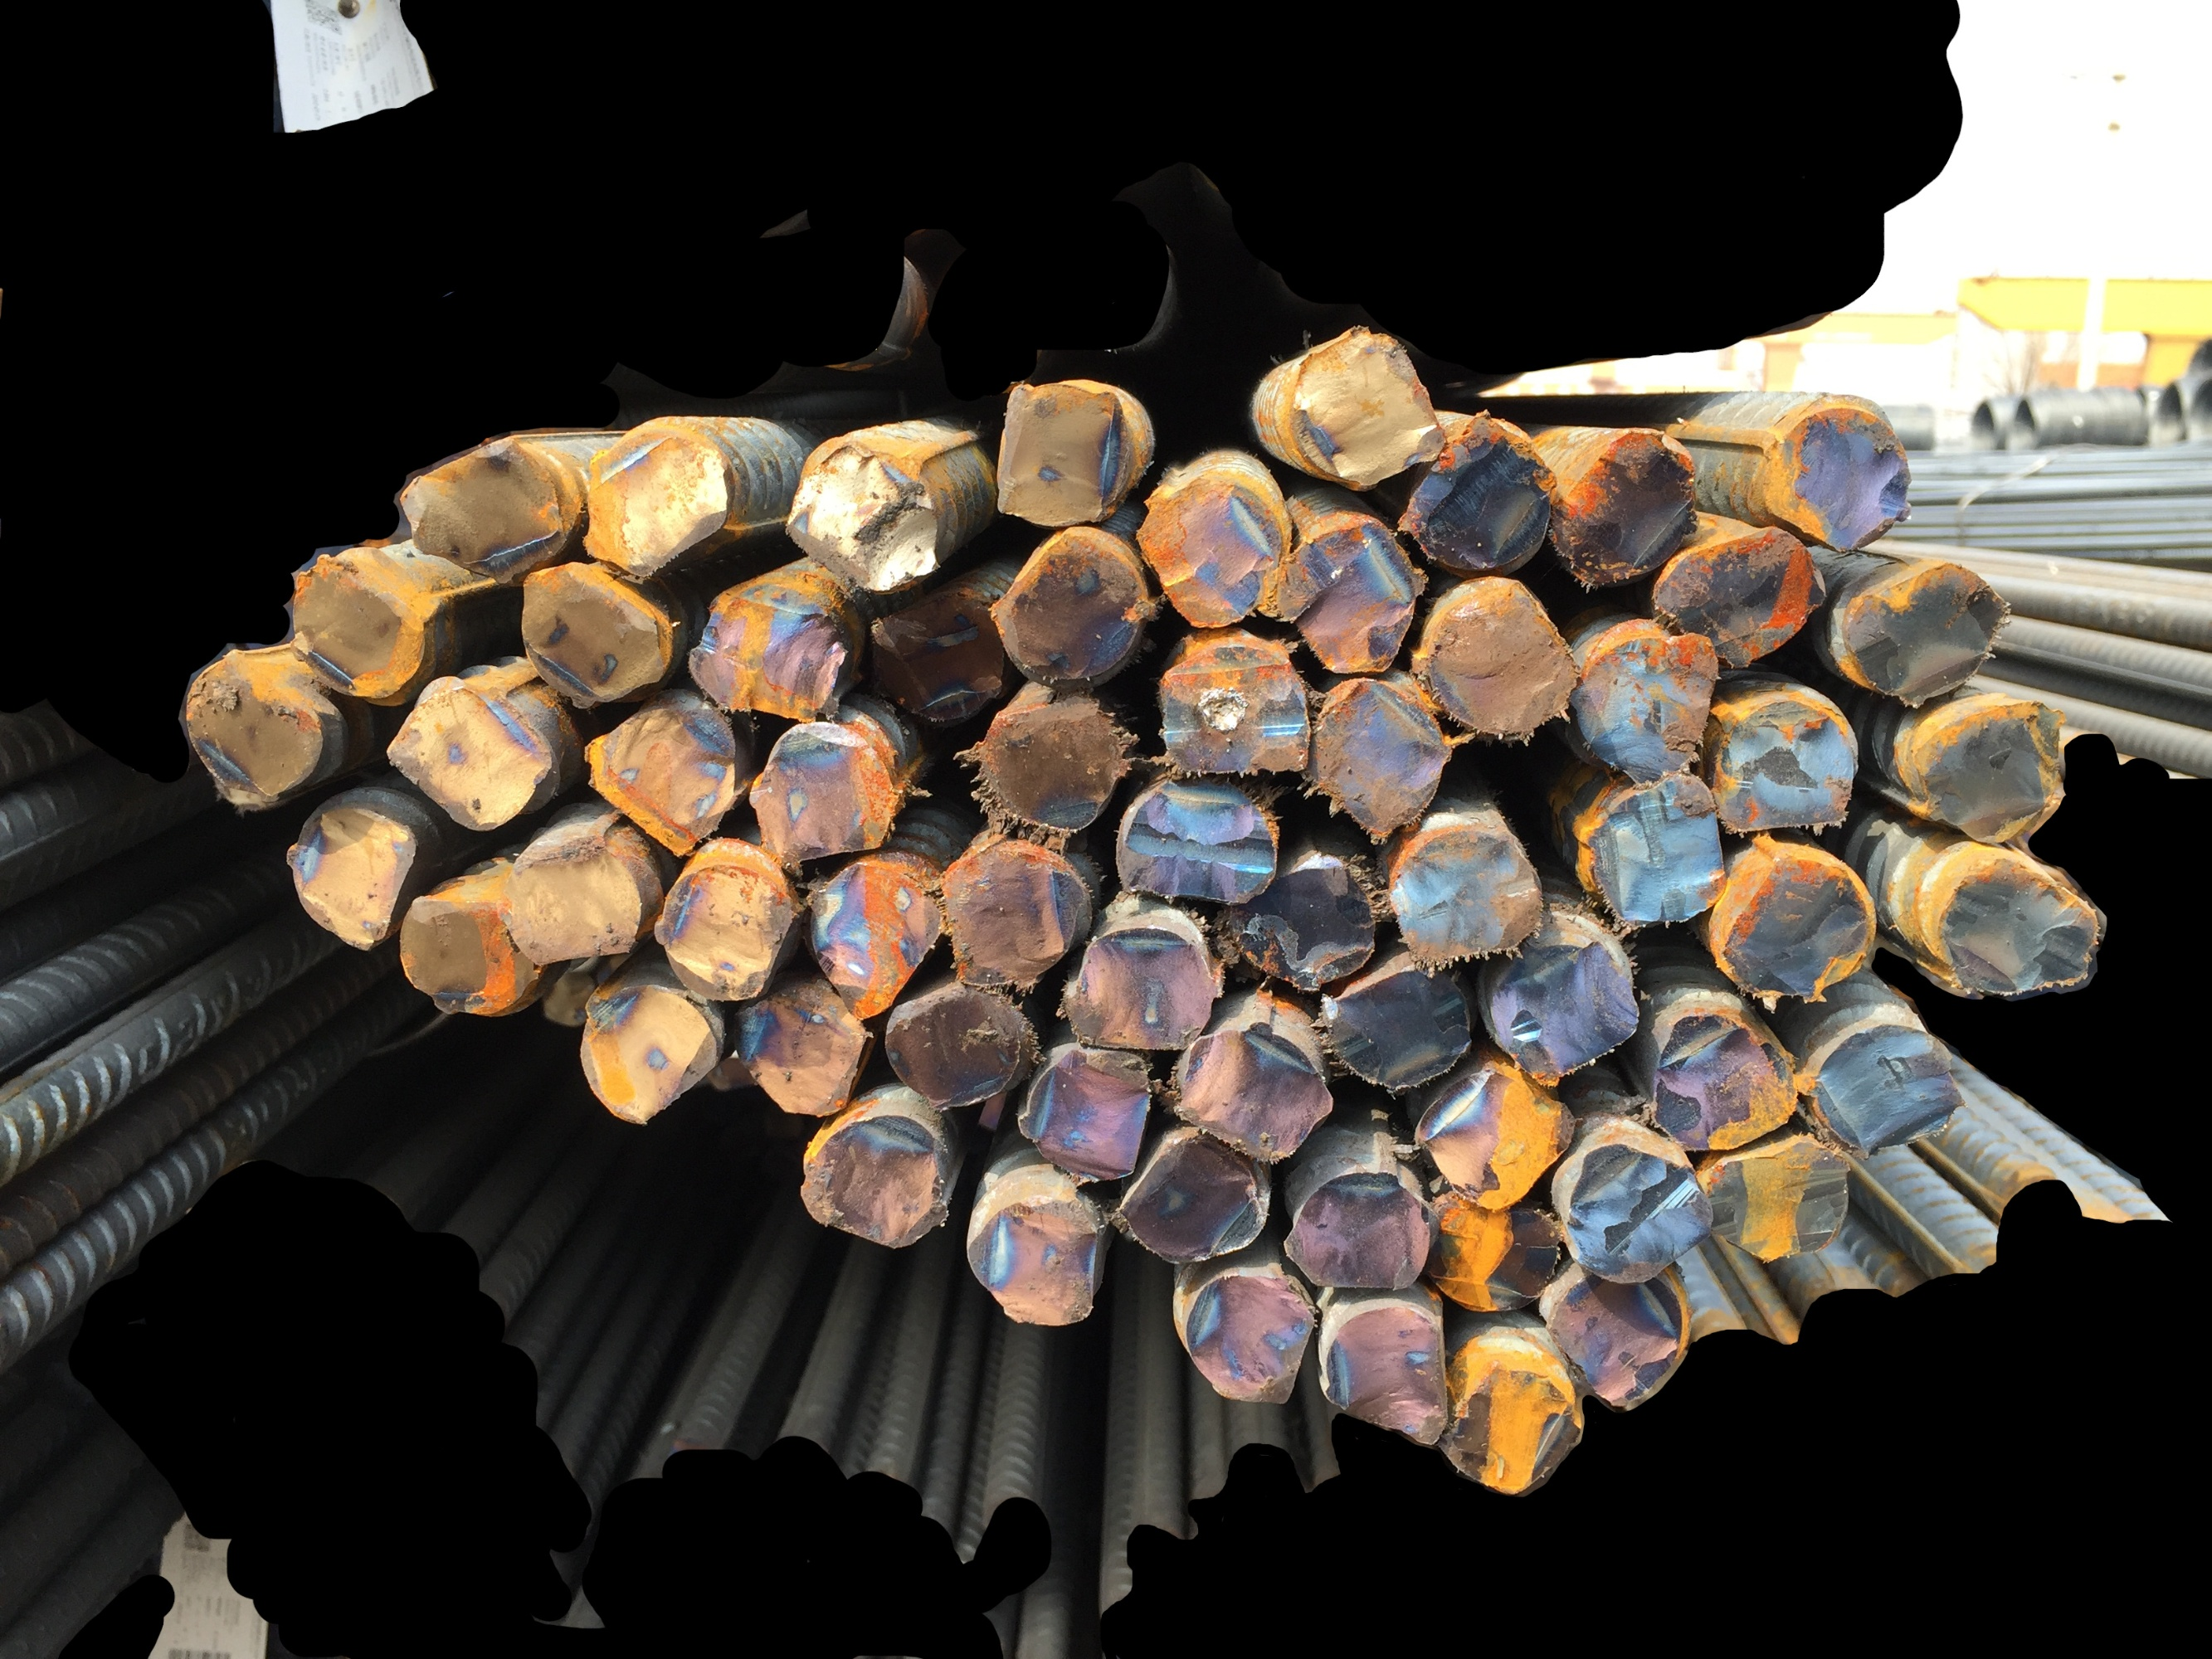rebar: (1281, 322, 1452, 498), (1644, 514, 1827, 674), (380, 666, 553, 835), (783, 430, 952, 599), (1931, 847, 2104, 1009), (1708, 845, 1883, 1006), (1841, 552, 2015, 711), (1759, 392, 1919, 563), (1133, 464, 1292, 634), (1267, 514, 1431, 676), (985, 526, 1145, 692), (580, 694, 744, 854), (1902, 694, 2073, 847), (1410, 1061, 1583, 1213), (171, 647, 328, 812), (1422, 573, 1578, 741), (580, 410, 732, 580), (1168, 1014, 1333, 1169), (516, 552, 676, 711), (1482, 922, 1642, 1080), (1396, 408, 1553, 570), (687, 577, 858, 725), (988, 369, 1140, 535), (565, 965, 722, 1124), (1440, 1333, 1590, 1499), (1557, 418, 1705, 586), (399, 436, 572, 577), (741, 720, 906, 866), (805, 852, 948, 1021), (648, 847, 802, 1004), (1642, 1009, 1804, 1157), (1710, 687, 1862, 843), (1055, 908, 1217, 1054), (940, 833, 1093, 986), (795, 1105, 955, 1251), (1309, 674, 1452, 838), (1116, 775, 1279, 918), (1161, 634, 1314, 786), (284, 547, 432, 704), (1586, 774, 1733, 932), (1802, 1019, 1966, 1161), (1386, 823, 1546, 965), (1567, 626, 1717, 777), (1232, 849, 1388, 995), (281, 795, 422, 955), (1562, 1136, 1713, 1284), (1537, 1265, 1693, 1410), (1110, 1124, 1274, 1260), (1011, 1035, 1163, 1182), (1278, 1166, 1440, 1302), (1307, 1298, 1455, 1446), (974, 695, 1124, 842), (866, 582, 1011, 734), (1318, 958, 1476, 1093), (1177, 1260, 1318, 1410), (882, 981, 1041, 1110), (493, 836, 647, 969), (734, 979, 875, 1122), (1700, 1134, 1853, 1265), (966, 1192, 1109, 1331), (1424, 1187, 1571, 1317), (396, 882, 533, 1019)
